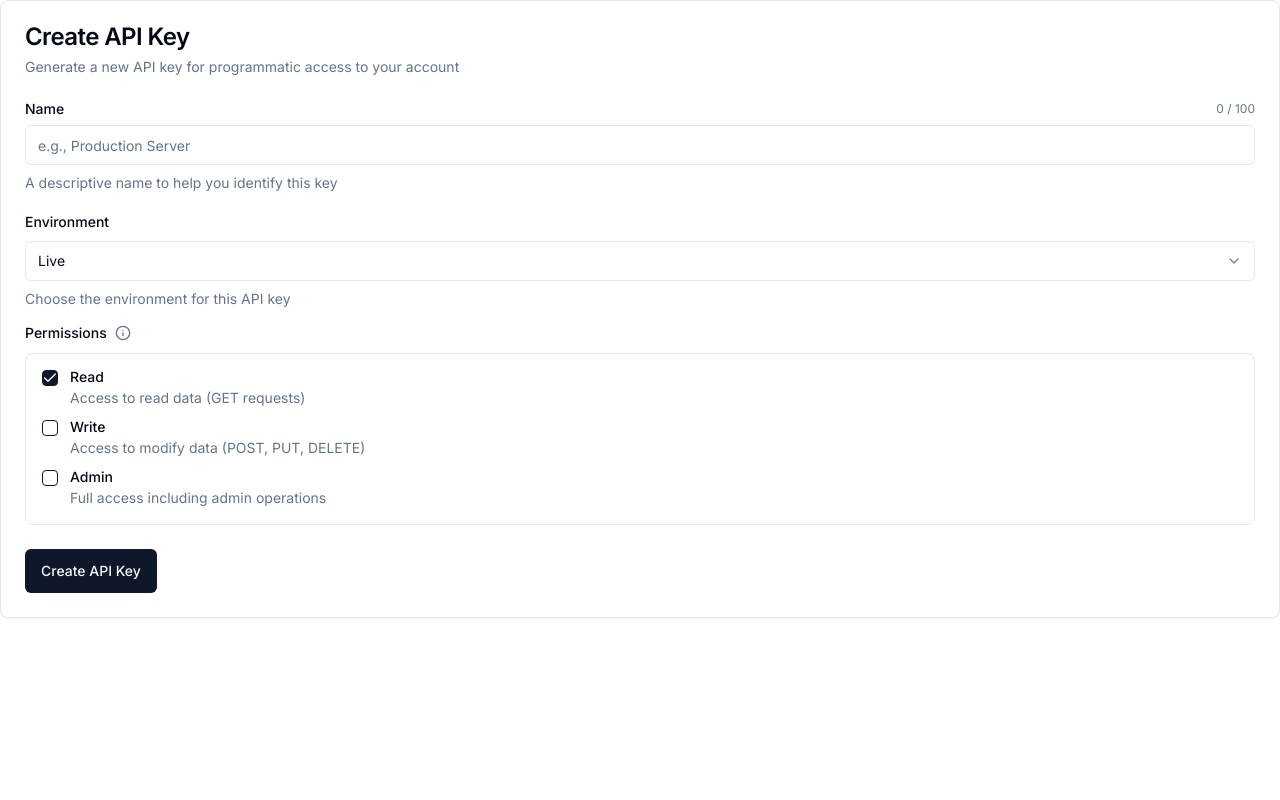
ApiKeyCreateForm › displays generated key in modal after successful creation
In the field labelled "Name": (640, 145) [25,125,1255,165], type "Test Key"
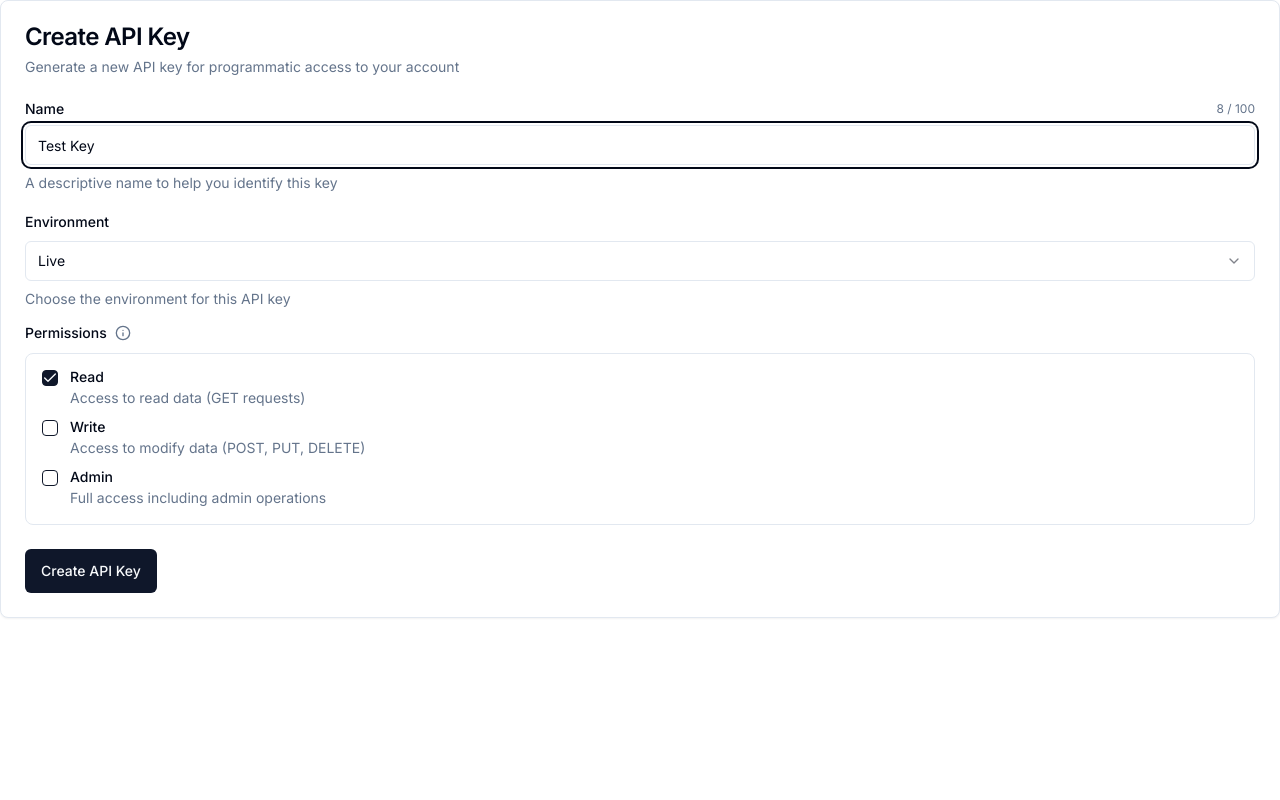
Click the button "Create API Key": click(91, 571) [25,549,157,593]
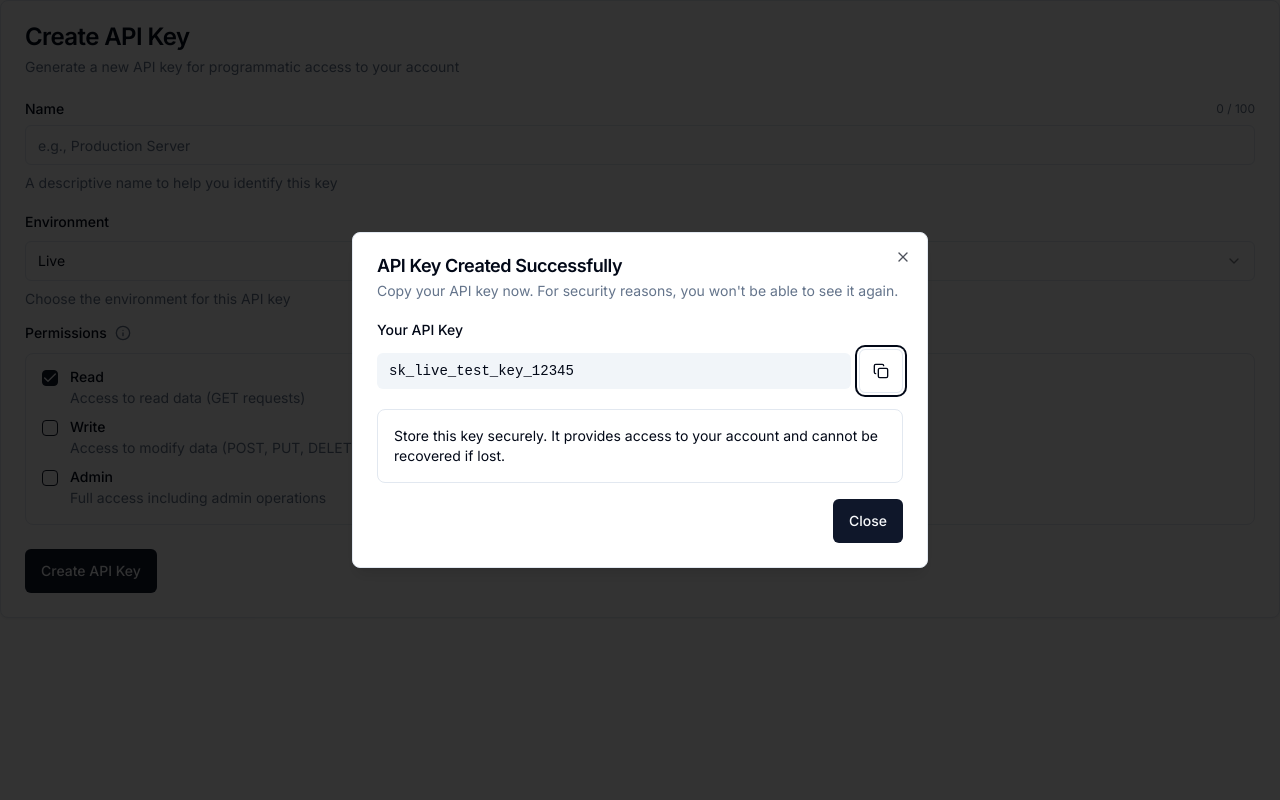
Expected: the text "sk_live_test_key_12345" is shown, [377,353,851,389]
